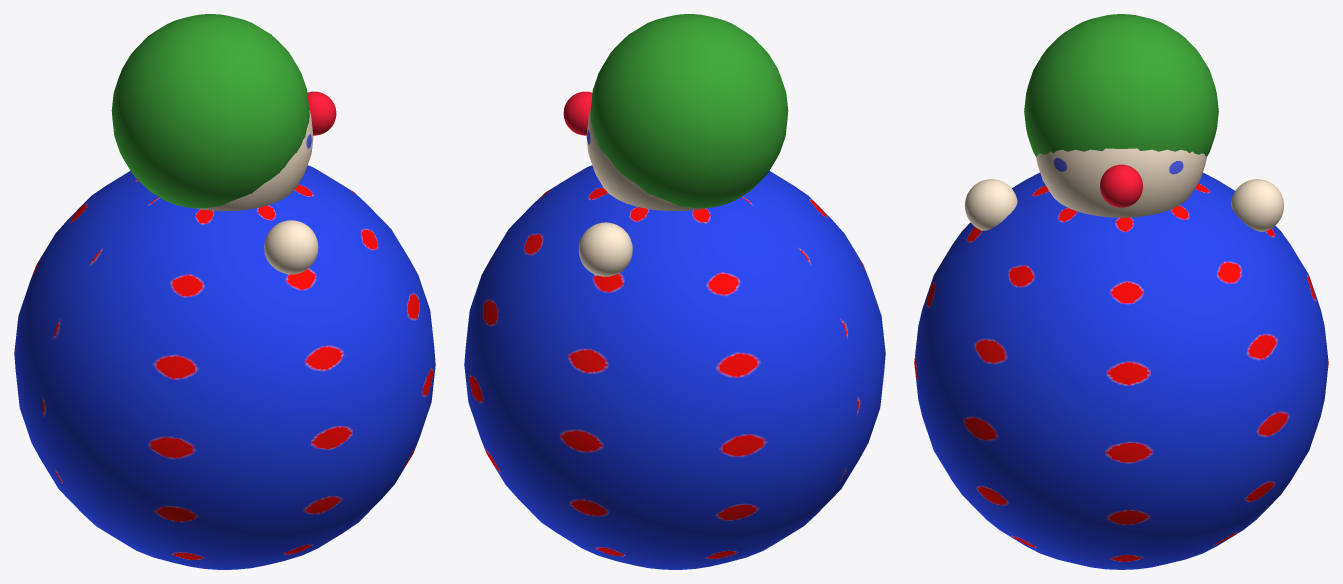
Rendered from clown_bluereddot.gltf.
The picture shows the model from 3 angles, left to right: view 1: azimuth 30°, elevation 25°; view 2: azimuth 150°, elevation 25°; view 3: azimuth 270°, elevation 25°; orthographic projection.
Parts seen in each view (by area): view 1: Clown; view 2: Clown; view 3: Clown.
Boxes of the visible parts, x1,y1,x2,y2 form: Clown: [14, 14, 435, 569]; Clown: [464, 14, 885, 569]; Clown: [914, 14, 1328, 569].
Bounding box in the file's own units: 2 × 2.77 × 2.
Materials: 1 (1 with a texture image).
